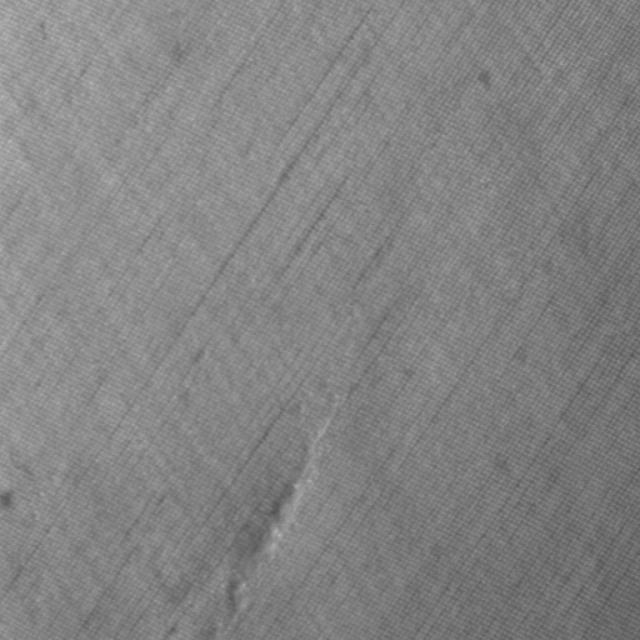thread error: (212, 420, 334, 635)
